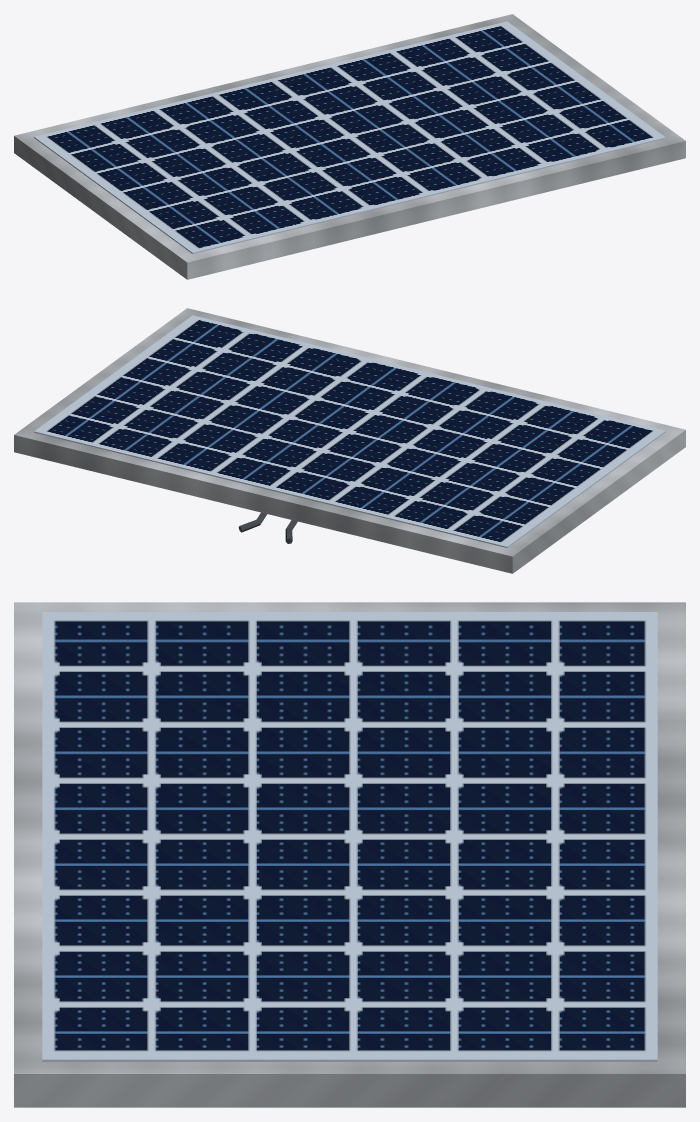
File: ENERGY-005.glb
The picture shows the model from 3 angles, top to bottom: view 1: azimuth 30°, elevation 25°; view 2: azimuth 150°, elevation 25°; view 3: azimuth 270°, elevation 25°; orthographic projection. The views are drawn at different scales.
Visible parts, largest first — view 1: ENERGY-005; view 2: ENERGY-005; view 3: ENERGY-005.
Boxes of the visible parts, <box> form: ENERGY-005: <box>14,14,685,279</box>; ENERGY-005: <box>14,308,685,573</box>; ENERGY-005: <box>14,602,685,1107</box>.
Size of the model in its own units: 1.96 by 0.1679 by 1.18.
Materials: 5 (2 with a texture image).
